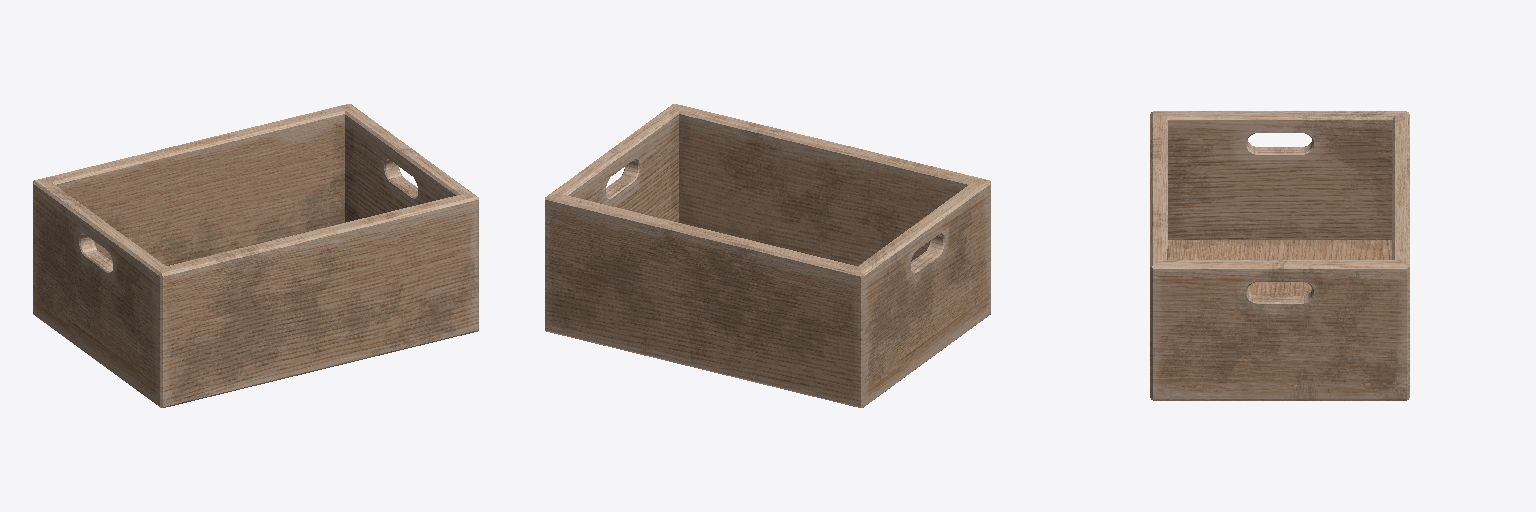
The picture shows the model from 3 angles: view 1: azimuth 30°, elevation 25°; view 2: azimuth 150°, elevation 25°; view 3: azimuth 270°, elevation 25°; orthographic projection.
Parts seen in each view (by area): view 1: woodenboxmesh; view 2: woodenboxmesh; view 3: woodenboxmesh.
Part boxes in pixels (x1,y1,x2,y2): woodenboxmesh: (33, 104, 478, 407); woodenboxmesh: (545, 104, 990, 407); woodenboxmesh: (1150, 111, 1409, 400).
Size of the model in its own units: 2.01 by 0.8141 by 1.41.
Materials: 1 (1 with a texture image).